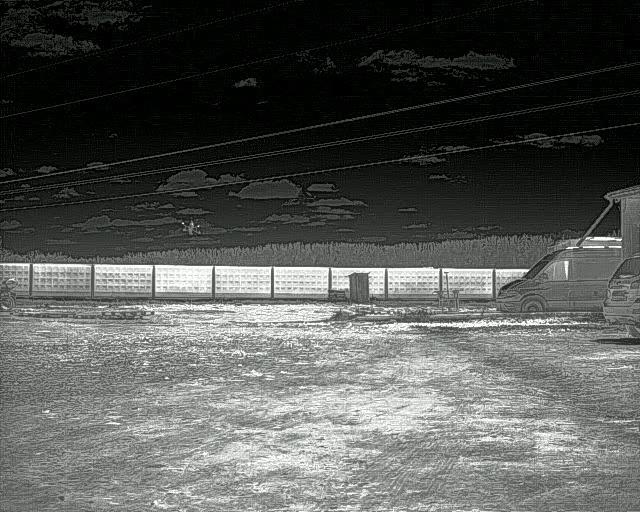drone-thermal: (181, 217, 202, 237)
